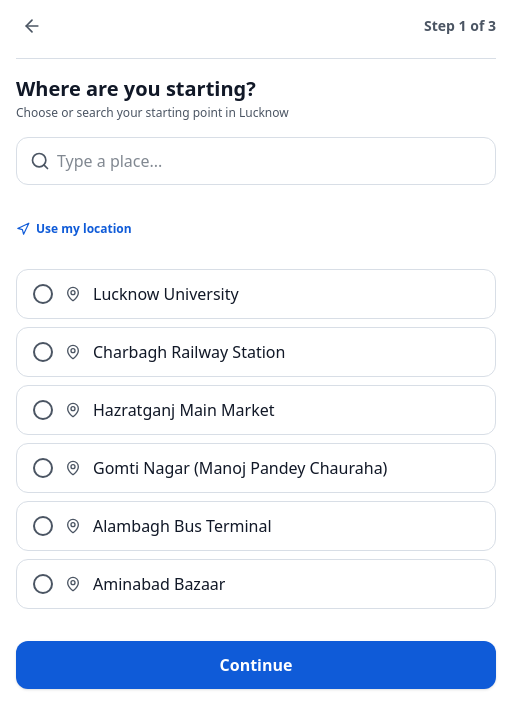
Test: Milestone U2: Plan Flow & Primitives › U2-04: Plan Step 1 & Step 2 Navigation › renders Step 1 with search and enables Continue upon origin selection
Expected: the text with test id "step-indicator" reads "Step 1 of 3", [424,16,496,35]
Expected: the heading "Where are you starting?" is shown, [16,75,256,102]
What coordinates should you click on to do the following:
click the button with test id "step-1-continue-btn"
I would click on:
 (256, 665)
Its box is [16,641,496,689].
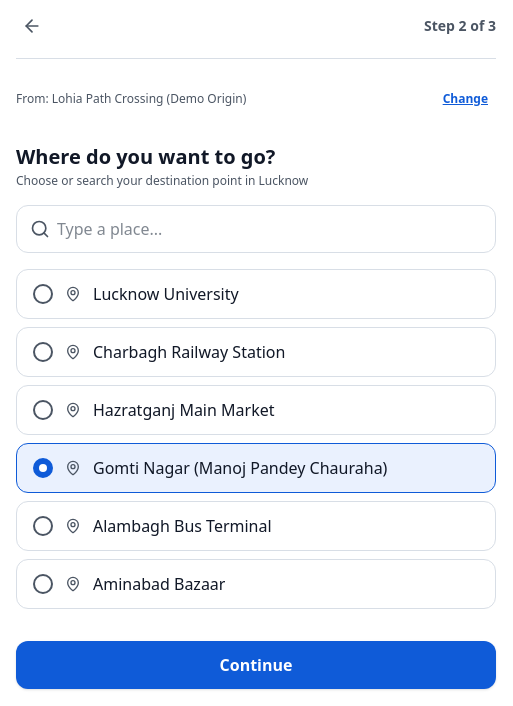
Expected: the text with test id "step-indicator" reads "Step 2 of 3", [424,16,496,35]
Expected: the heading "Where do you want to go?" is shown, [16,143,275,170]
